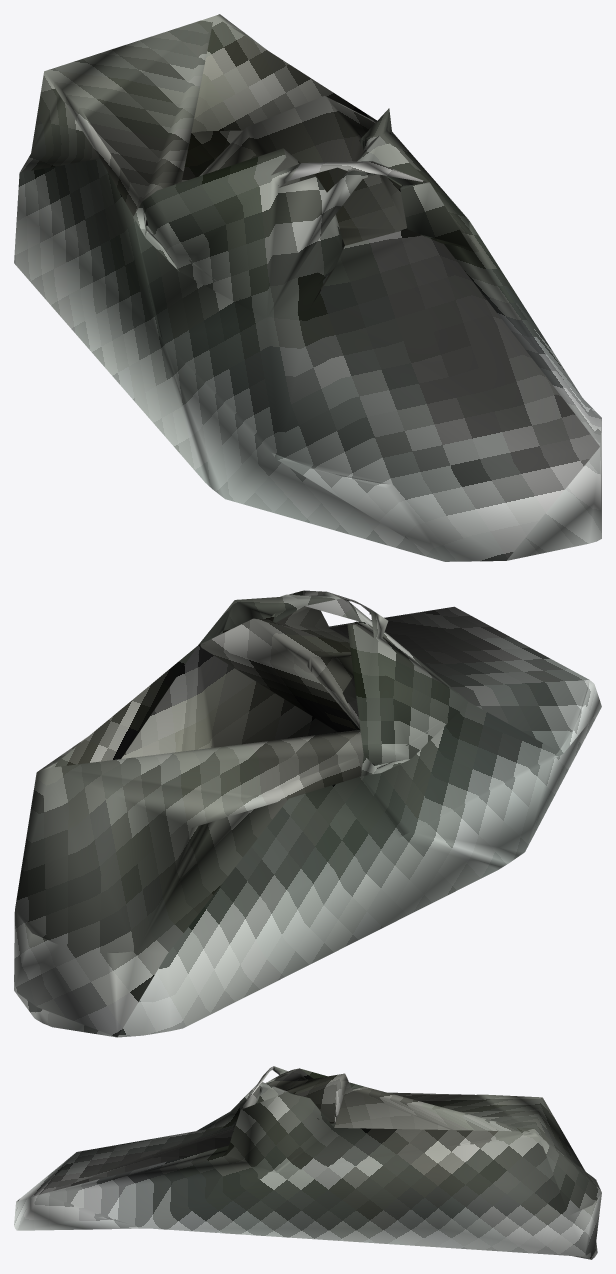
Rendered from Womens_Canvas_Bahama_in_Black_vnJULsDVyq5-low.glb.
3 renders of one model, top to bottom at view 1: azimuth 30°, elevation 25°; view 2: azimuth 150°, elevation 25°; view 3: azimuth 270°, elevation 25°, orthographic. The views are drawn at different scales.
Parts seen in each view (by area): view 1: Womens_Canvas_Bahama_in_Black_vnJULsDVyq5; view 2: Womens_Canvas_Bahama_in_Black_vnJULsDVyq5; view 3: Womens_Canvas_Bahama_in_Black_vnJULsDVyq5.
Boxes of the visible parts, x1,y1,x2,y2 form: Womens_Canvas_Bahama_in_Black_vnJULsDVyq5: [14, 14, 601, 561]; Womens_Canvas_Bahama_in_Black_vnJULsDVyq5: [14, 590, 601, 1037]; Womens_Canvas_Bahama_in_Black_vnJULsDVyq5: [14, 1066, 601, 1259].
Bounding box in the file's own units: 0.0809 × 0.0767 × 0.2394.
Materials: 1 (1 with a texture image).
